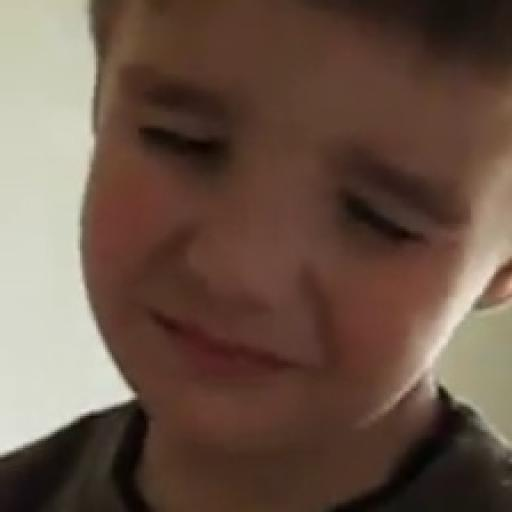Autism: (80, 5, 512, 480)
